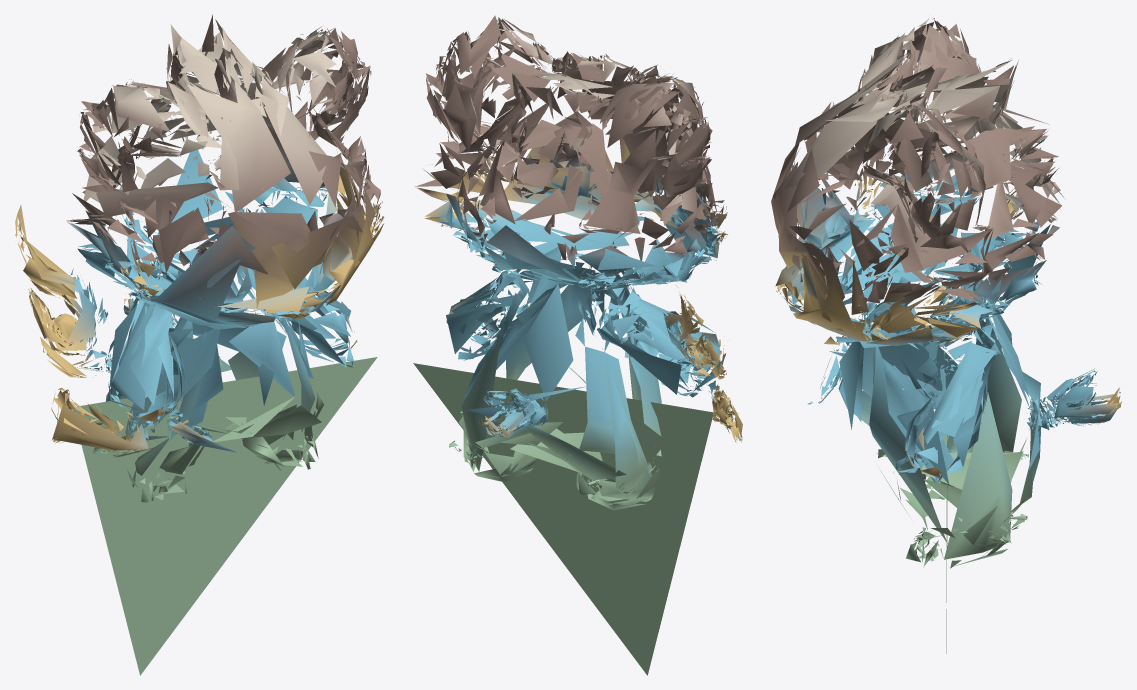
File: statue_id_colored.glb
The picture shows the model from 3 angles, left to right: view 1: azimuth 30°, elevation 25°; view 2: azimuth 150°, elevation 25°; view 3: azimuth 270°, elevation 25°; orthographic projection. The views are drawn at different scales.
Visible parts, largest first — view 1: Statue_ID_Mask; view 2: Statue_ID_Mask; view 3: Statue_ID_Mask.
Part boxes in pixels (box(x1,y1,x2,y2)): Statue_ID_Mask: box(15, 14, 384, 675); Statue_ID_Mask: box(413, 15, 742, 675); Statue_ID_Mask: box(771, 18, 1122, 653).
Bounding box in the file's own units: 1.27 × 2.27 × 1.09.
